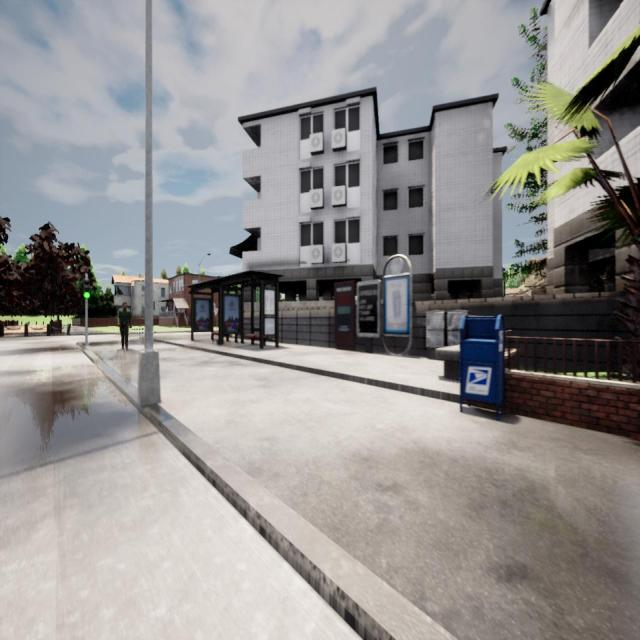Pedestrian: (116, 302, 132, 351)
traffic_light: (83, 279, 91, 299)
